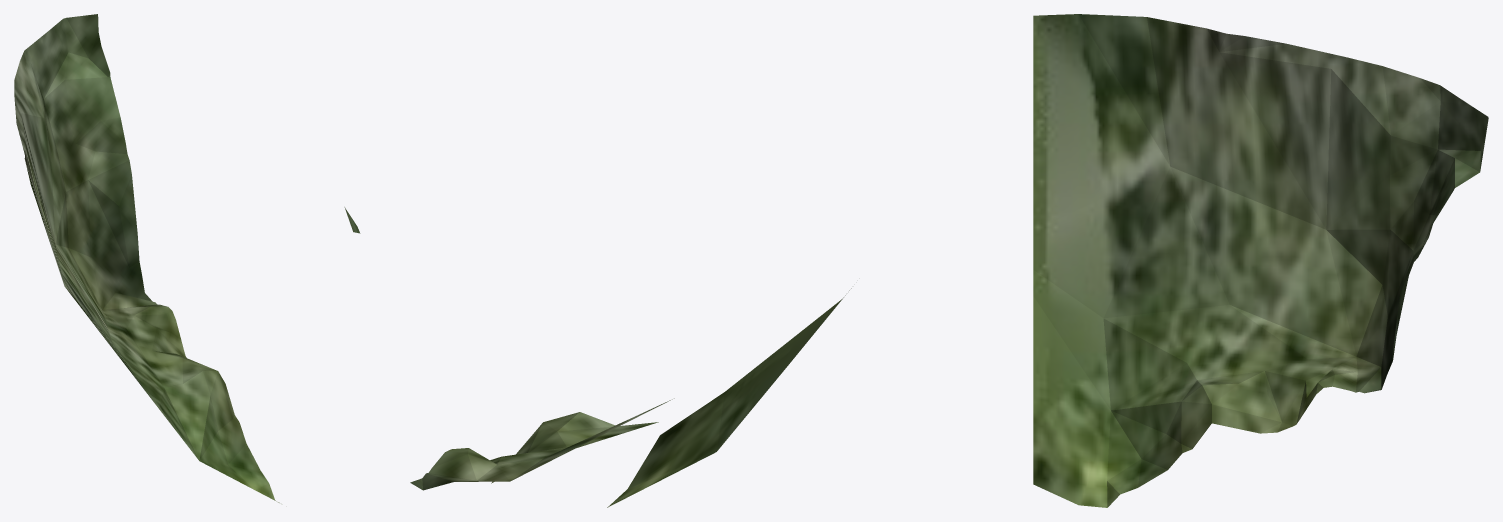
3 renders of one model, left to right at view 1: azimuth 30°, elevation 25°; view 2: azimuth 150°, elevation 25°; view 3: azimuth 270°, elevation 25°, orthographic. The views are drawn at different scales.
Size of the model in its own units: 1.75 by 2.57 by 2.83.
1 material, 1 textured.
